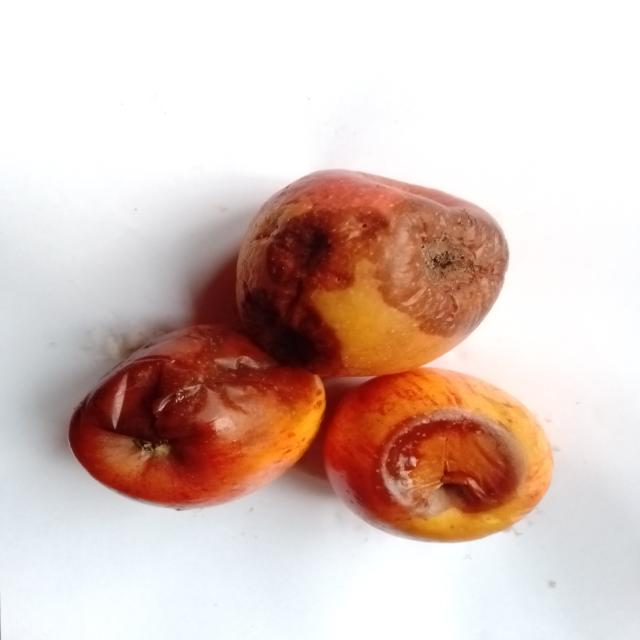apple: (237, 170, 508, 376), (70, 325, 324, 508), (325, 368, 552, 541)
